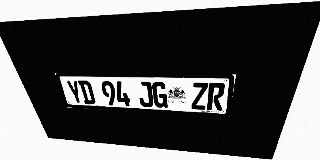4: (113, 81, 131, 106)
9: (100, 81, 118, 106)
D: (77, 80, 96, 104)
G: (152, 82, 168, 108)
J: (137, 81, 153, 107)
R: (207, 83, 226, 111)
Y: (65, 80, 84, 104)
Z: (191, 82, 208, 110)
